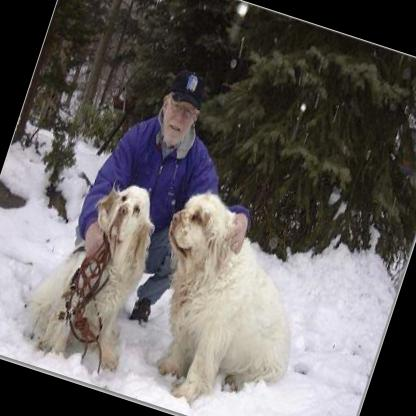clumber: (119, 179, 332, 416), (20, 159, 171, 372)
